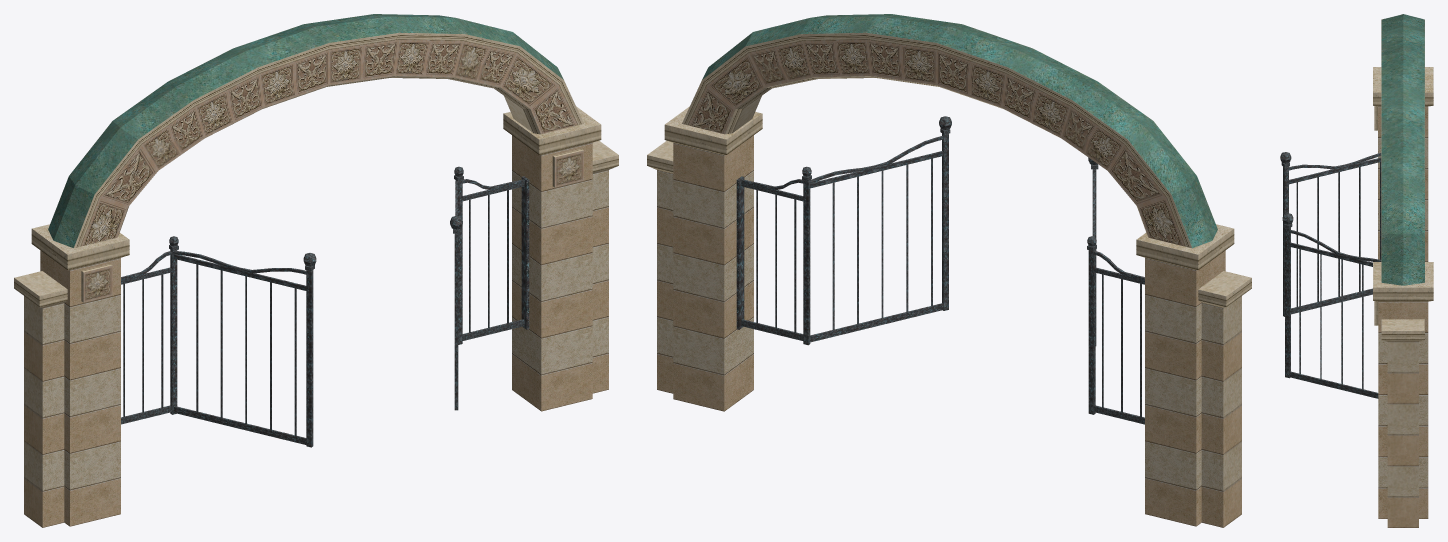
The model's file is thm_nboo_imprv_wide_gate_s02_l0.fbx.
3 renders of one model, left to right at view 1: azimuth 30°, elevation 25°; view 2: azimuth 150°, elevation 25°; view 3: azimuth 270°, elevation 25°, orthographic. The views are drawn at different scales.
Visible parts, largest first — view 1: mesh_node; view 2: mesh_node; view 3: mesh_node.
Part boxes in pixels (box(x1,y1,x2,y2)): mesh_node: box(14, 14, 618, 527); mesh_node: box(647, 14, 1251, 527); mesh_node: box(1280, 14, 1433, 527).
Bounding box in the file's own units: 16.55 × 11.62 × 4.47.
